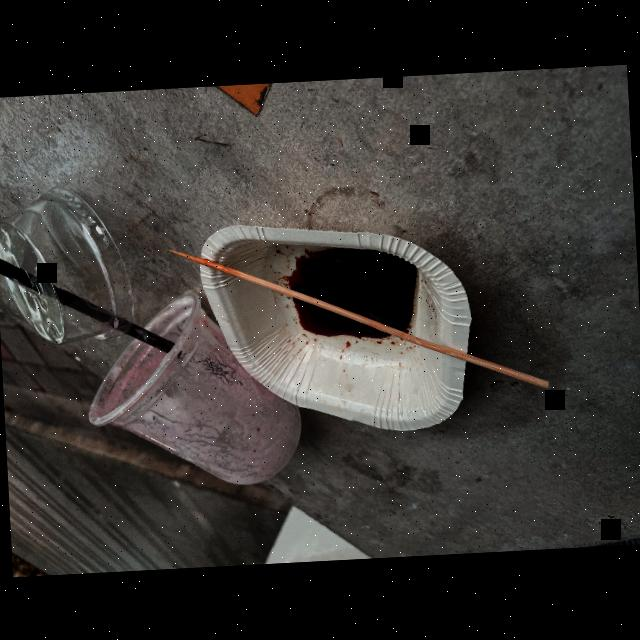cardboard_bowl: (190, 215, 470, 442)
plastic_cup: (78, 282, 309, 502)
plastic_cup_lid: (0, 176, 143, 352)
stick: (155, 236, 556, 404)
straw: (0, 249, 199, 366)
